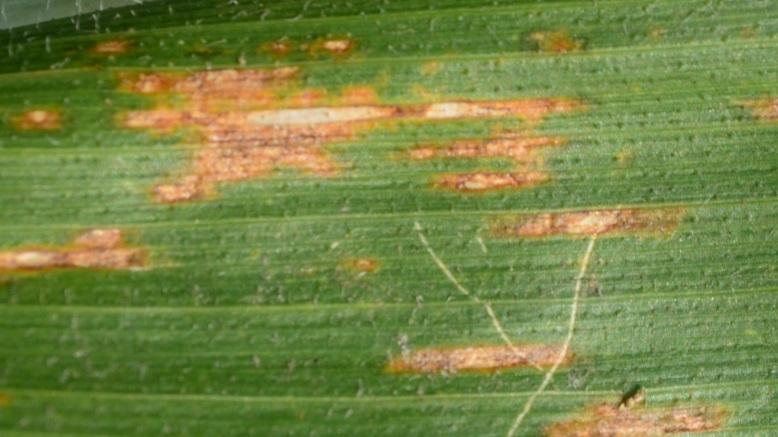Corn Gray leaf spot: (1, 1, 777, 436)
